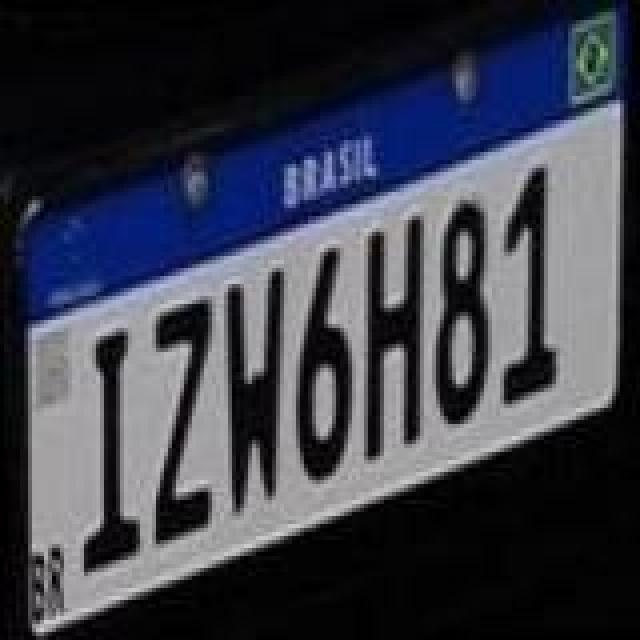1: (490, 164, 562, 412)
6: (286, 238, 358, 482)
8: (422, 200, 494, 432)
H: (356, 216, 432, 464)
I: (70, 330, 142, 582)
W: (220, 264, 296, 520)
Z: (142, 294, 222, 554)
